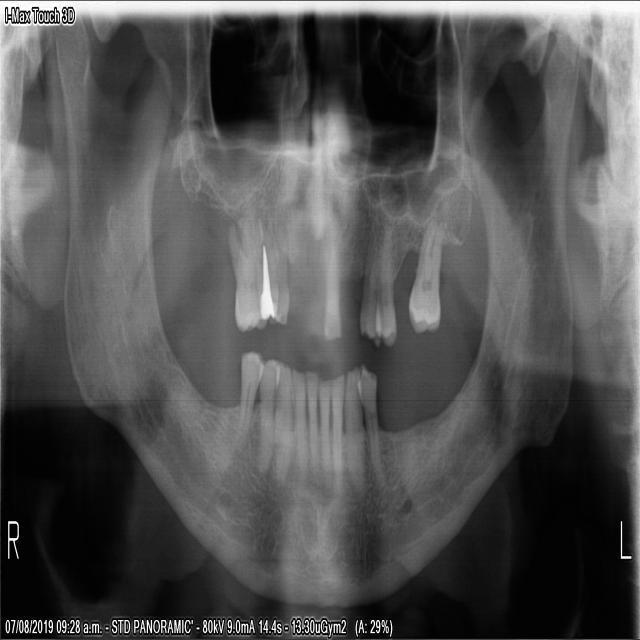LCD: (340, 358, 364, 501)
LID: (326, 367, 345, 491), (314, 369, 333, 490)
LIU: (318, 236, 344, 349)
LMU: (403, 202, 450, 342)
LPMD: (352, 358, 387, 492)
LPMU: (353, 214, 382, 352), (373, 209, 401, 350)
RCD: (272, 352, 295, 493)
RID: (300, 362, 320, 479), (288, 362, 307, 484)
RMU: (223, 202, 270, 341)
RPMD: (250, 351, 282, 493), (230, 343, 266, 459)
RPMU: (254, 194, 291, 336)
